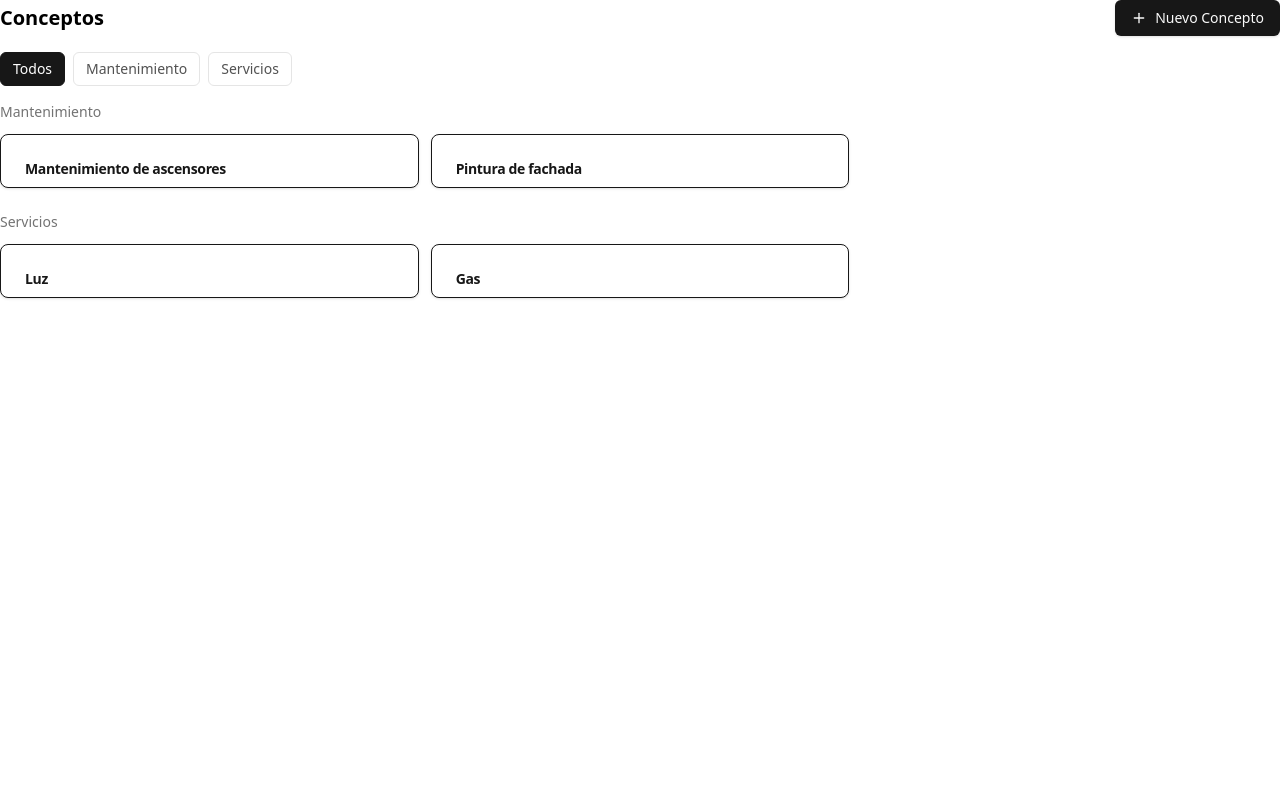
Scenario: ConceptList › opens create dialog when clicking Nuevo Concepto
Click the button "Nuevo Concepto" at (1198, 18), box [1115,0,1279,36]
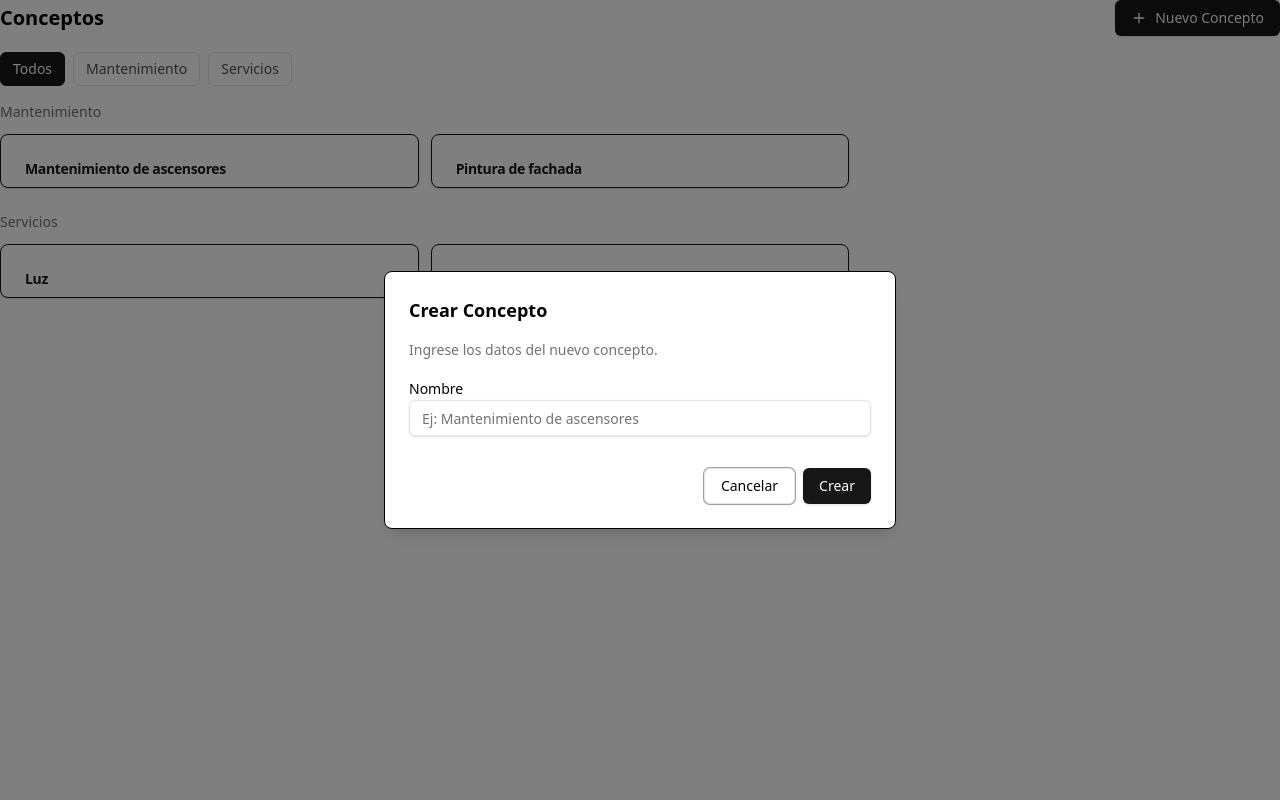
expect the heading "Crear Concepto" is shown: met, box [409,298,547,322]
expect the field labelled "Nombre" is shown: met, box [409,400,871,436]
